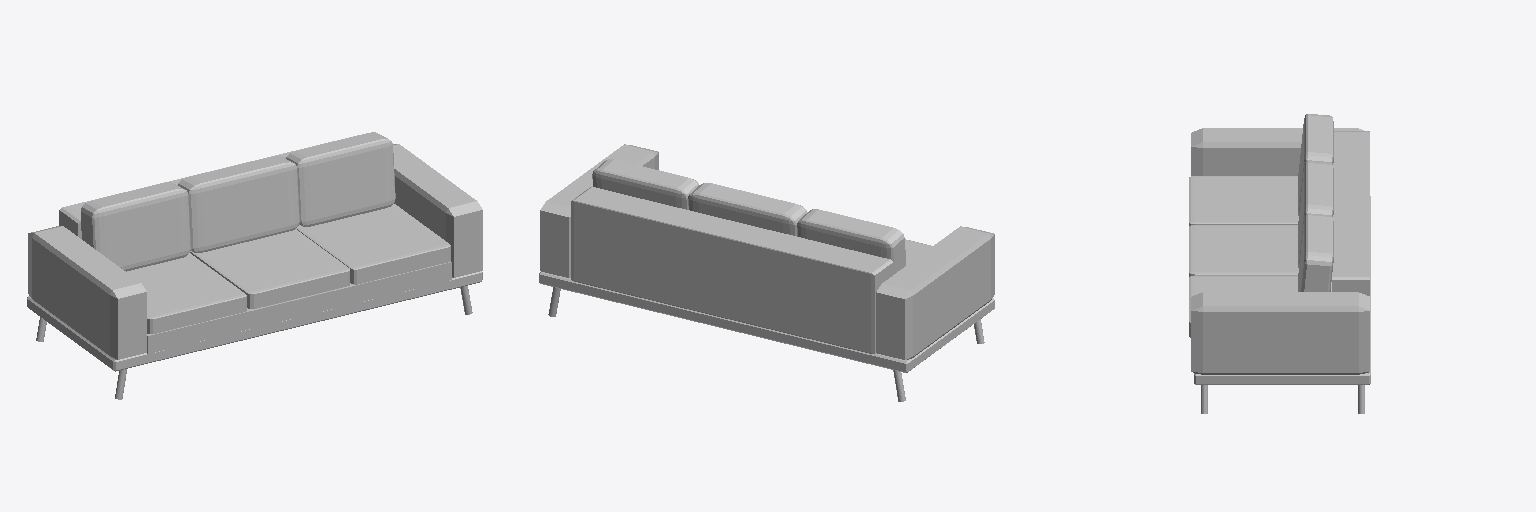
The model's file is sofa.obj.
The picture shows the model from 3 angles: view 1: azimuth 30°, elevation 25°; view 2: azimuth 150°, elevation 25°; view 3: azimuth 270°, elevation 25°; orthographic projection.
Visible parts, largest first — view 1: Cube.003_Cube.005, Cube, Cube.009_Cube.014, Cube.008_Cube.013, Cube.007_Cube.012, Cube.005_Cube.011, Cube.006_Cube.010, Cube.001, Cube.002_Cube.009, Cube.004; view 2: Cube.004, Cube.003_Cube.005, Cube, Cube.001, Cube.009_Cube.014, Cube.007_Cube.012, Cube.008_Cube.013; view 3: Cube.001, Cube.004, Cube.005_Cube.011, Cube.002_Cube.009, Cube.003_Cube.005, Cube.008_Cube.013, Cube.006_Cube.010, Cube, Cube.009_Cube.014, Cube.007_Cube.012.
Boxes of the visible parts, x1,y1,x2,y2 form: Cube.003_Cube.005: [28, 226, 146, 359]; Cube: [27, 261, 482, 371]; Cube.009_Cube.014: [178, 156, 299, 252]; Cube.008_Cube.013: [286, 132, 395, 226]; Cube.007_Cube.012: [81, 182, 190, 271]; Cube.005_Cube.011: [190, 229, 349, 308]; Cube.006_Cube.010: [296, 204, 450, 284]; Cube.001: [393, 144, 482, 277]; Cube.002_Cube.009: [127, 253, 246, 333]; Cube.004: [59, 135, 357, 238]; Cube.004: [571, 187, 893, 353]; Cube.003_Cube.005: [876, 226, 994, 359]; Cube: [539, 272, 994, 372]; Cube.001: [540, 144, 658, 277]; Cube.009_Cube.014: [688, 183, 807, 235]; Cube.007_Cube.012: [797, 209, 905, 273]; Cube.008_Cube.013: [592, 159, 698, 209]; Cube.001: [1191, 292, 1369, 374]; Cube.004: [1332, 131, 1369, 295]; Cube.005_Cube.011: [1189, 225, 1298, 276]; Cube.002_Cube.009: [1189, 176, 1298, 225]; Cube.003_Cube.005: [1191, 128, 1363, 175]; Cube.008_Cube.013: [1298, 214, 1333, 291]; Cube.006_Cube.010: [1189, 275, 1331, 337]; Cube: [1194, 196, 1370, 384]; Cube.009_Cube.014: [1298, 161, 1333, 267]; Cube.007_Cube.012: [1298, 114, 1333, 215].
Size of the model in its own units: 2 by 0.7519 by 0.8519.